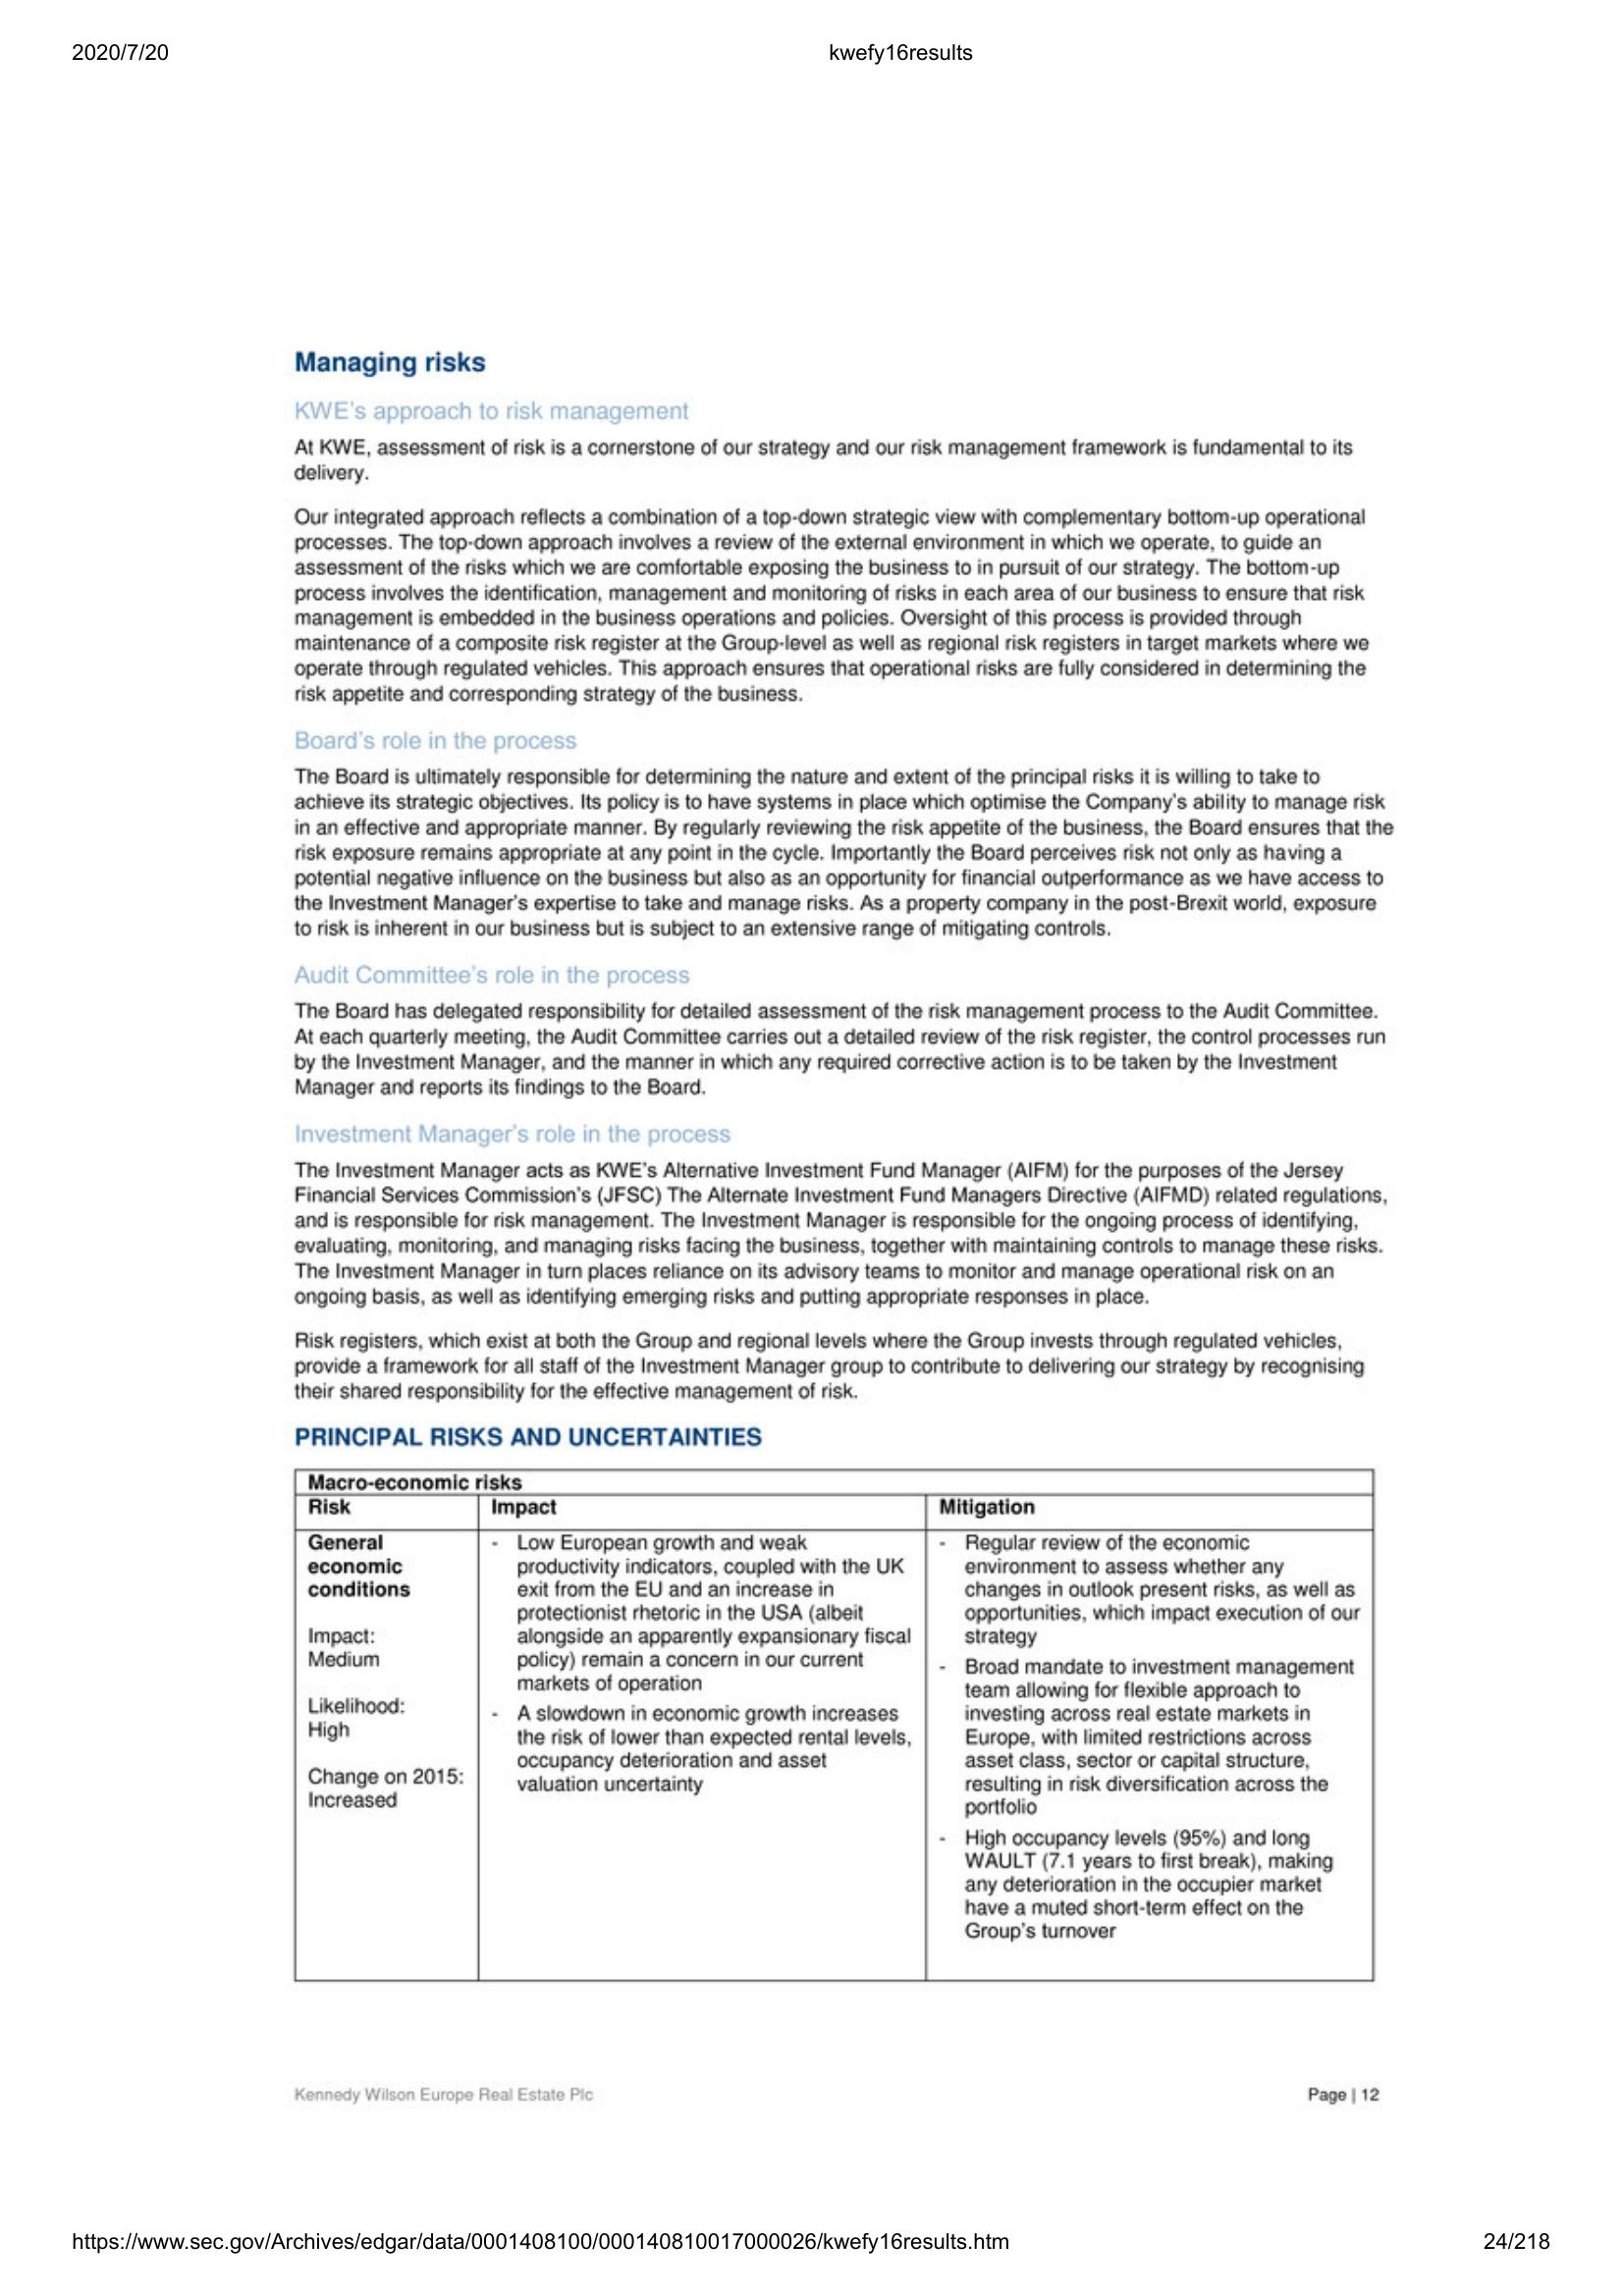table: (283, 1460, 1381, 1994)
